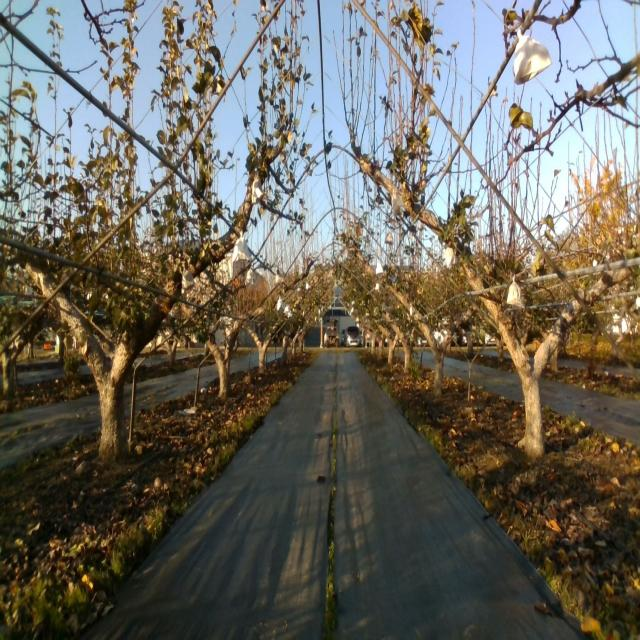pearbags: (512, 27, 553, 83), (506, 272, 524, 309), (233, 228, 249, 265), (179, 263, 196, 293), (251, 171, 265, 205), (442, 245, 456, 269), (392, 191, 406, 215)
